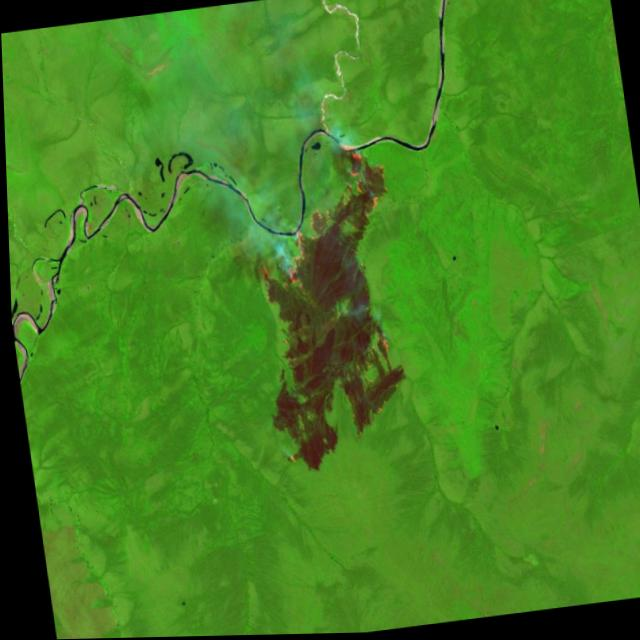fire: (242, 141, 410, 369)
